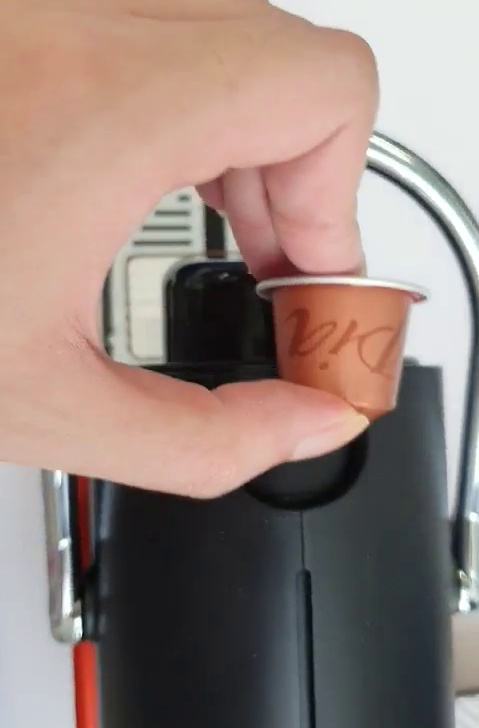capsule_6: (256, 272, 428, 433)
